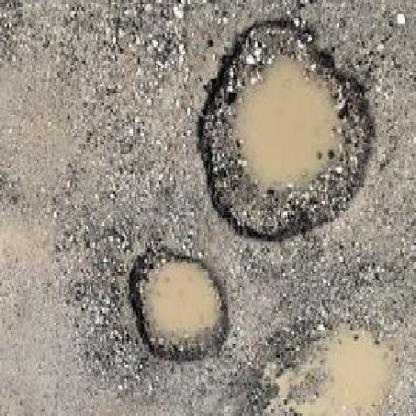pothole: (193, 15, 380, 248), (254, 316, 405, 416), (127, 251, 233, 367)
